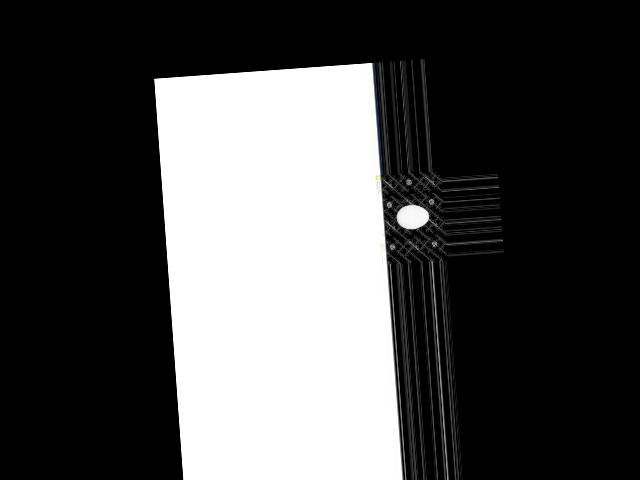egg: (395, 204, 429, 231)
